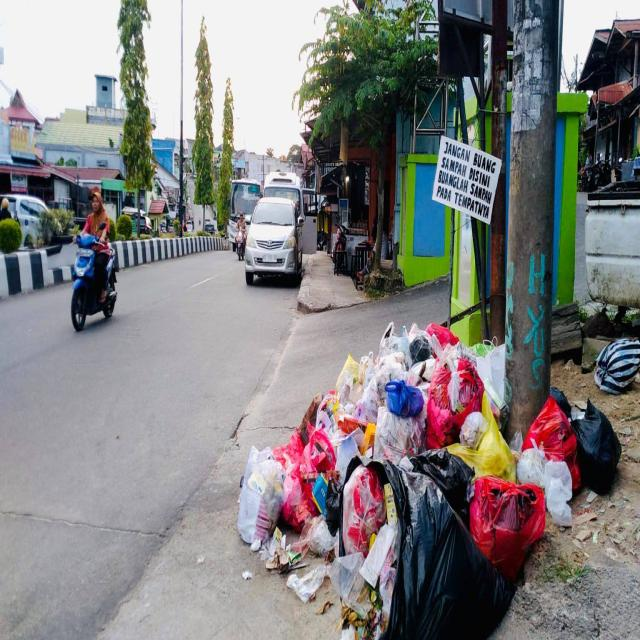trash: (242, 315, 638, 640)
